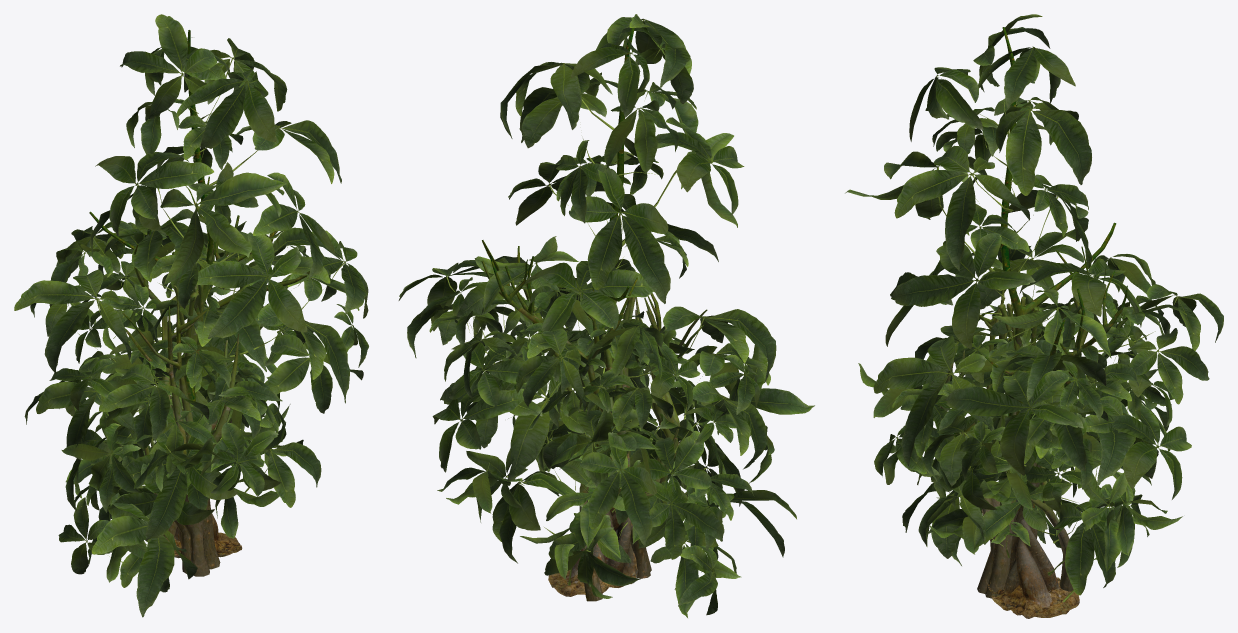
The model's file is pachira_aquatica_01.fbx.
3 views of the same model, side by side, from view 1: azimuth 30°, elevation 25°; view 2: azimuth 150°, elevation 25°; view 3: azimuth 270°, elevation 25° (orthographic). The views are drawn at different scales.
Visible parts, largest first — view 1: pachira_aquatica_01_leaves_d.001, pachira_aquatica_01_leaves_c.001, pachira_aquatica_01_leaves_a.001, pachira_aquatica_01_bark_d.001, pachira_aquatica_01_bark_c.001, pachira_aquatica_01_leaves_b.001, pachira_aquatica_01_bark_a.001; view 2: pachira_aquatica_01_leaves_d.001, pachira_aquatica_01_leaves_c.001, pachira_aquatica_01_leaves_a.001, pachira_aquatica_01_leaves_b.001, pachira_aquatica_01_bark_d.001, pachira_aquatica_01_bark_a.001, pachira_aquatica_01_bark_c.001; view 3: pachira_aquatica_01_leaves_d.001, pachira_aquatica_01_leaves_c.001, pachira_aquatica_01_leaves_a.001, pachira_aquatica_01_leaves_b.001, pachira_aquatica_01_bark_a.001, pachira_aquatica_01_bark_d.001, pachira_aquatica_01_bark_c.001, pachira_aquatica_01_bark_b.001.
Part boxes in pixels (left/top/right/bottom): pachira_aquatica_01_leaves_d.001: left=14, top=14, right=368, bottom=592; pachira_aquatica_01_leaves_c.001: left=24, top=222, right=359, bottom=617; pachira_aquatica_01_leaves_a.001: left=65, top=301, right=292, bottom=582; pachira_aquatica_01_bark_d.001: left=89, top=30, right=309, bottom=573; pachira_aquatica_01_bark_c.001: left=123, top=176, right=278, bottom=576; pachira_aquatica_01_leaves_b.001: left=121, top=375, right=321, bottom=507; pachira_aquatica_01_bark_a.001: left=166, top=270, right=242, bottom=558; pachira_aquatica_01_leaves_d.001: left=398, top=14, right=776, bottom=573; pachira_aquatica_01_leaves_c.001: left=407, top=286, right=814, bottom=615; pachira_aquatica_01_leaves_a.001: left=440, top=327, right=744, bottom=617; pachira_aquatica_01_leaves_b.001: left=492, top=402, right=692, bottom=585; pachira_aquatica_01_bark_d.001: left=482, top=14, right=703, bottom=578; pachira_aquatica_01_bark_a.001: left=548, top=297, right=638, bottom=596; pachira_aquatica_01_bark_c.001: left=481, top=258, right=707, bottom=571; pachira_aquatica_01_leaves_d.001: left=845, top=14, right=1223, bottom=565; pachira_aquatica_01_leaves_c.001: left=858, top=293, right=1209, bottom=558; pachira_aquatica_01_leaves_a.001: left=917, top=339, right=1156, bottom=572; pachira_aquatica_01_leaves_b.001: left=918, top=415, right=1149, bottom=602; pachira_aquatica_01_bark_a.001: left=988, top=296, right=1079, bottom=618; pachira_aquatica_01_bark_d.001: left=954, top=27, right=1116, bottom=598; pachira_aquatica_01_bark_c.001: left=940, top=246, right=1127, bottom=593; pachira_aquatica_01_bark_b.001: left=1005, top=465, right=1073, bottom=591.
Size of the model in its own units: 1.05 by 1.65 by 0.9977.
2 materials, 2 textured.
